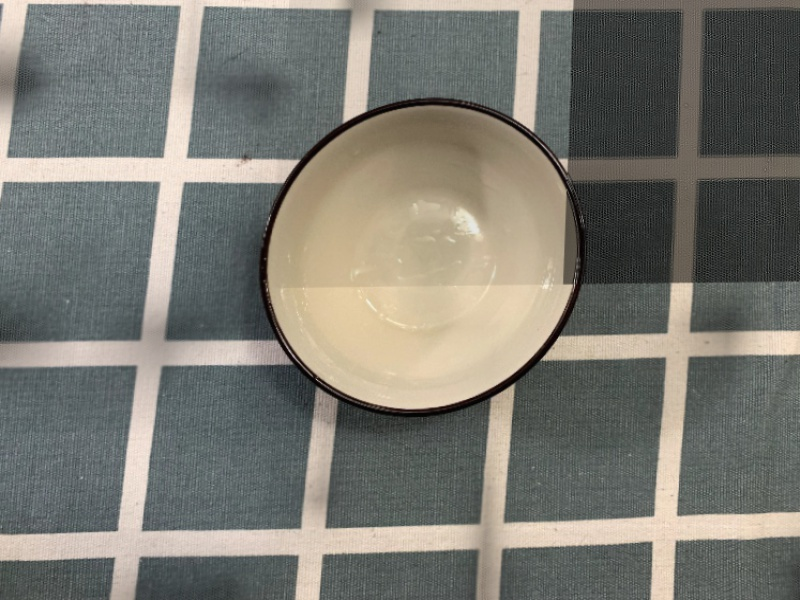bowl_small: (235, 90, 599, 431)
